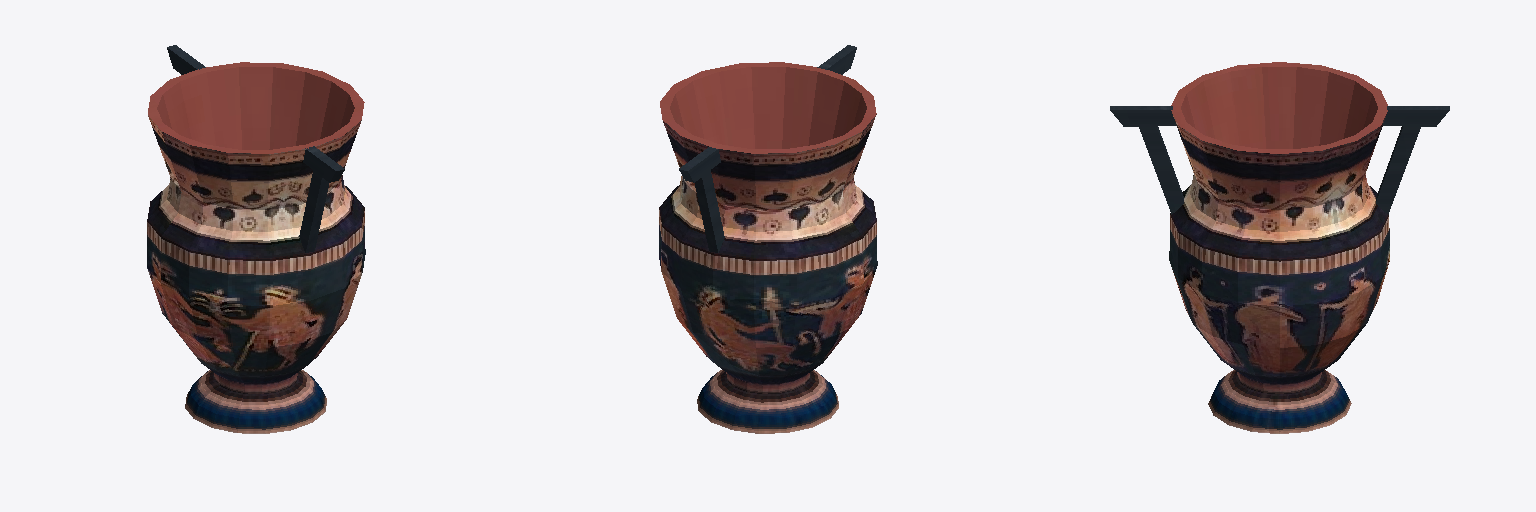
3 views of the same model, side by side, from view 1: azimuth 30°, elevation 25°; view 2: azimuth 150°, elevation 25°; view 3: azimuth 270°, elevation 25° (orthographic).
Parts seen in each view (by area): view 1: vase1; view 2: vase1; view 3: vase1.
Part boxes in pixels (bbox=[...]): vase1: bbox=[147, 45, 365, 433]; vase1: bbox=[659, 45, 877, 433]; vase1: bbox=[1110, 62, 1449, 433].
Bounding box in the file's own units: 72.9 × 108 × 112.
Materials: 1 (1 with a texture image).